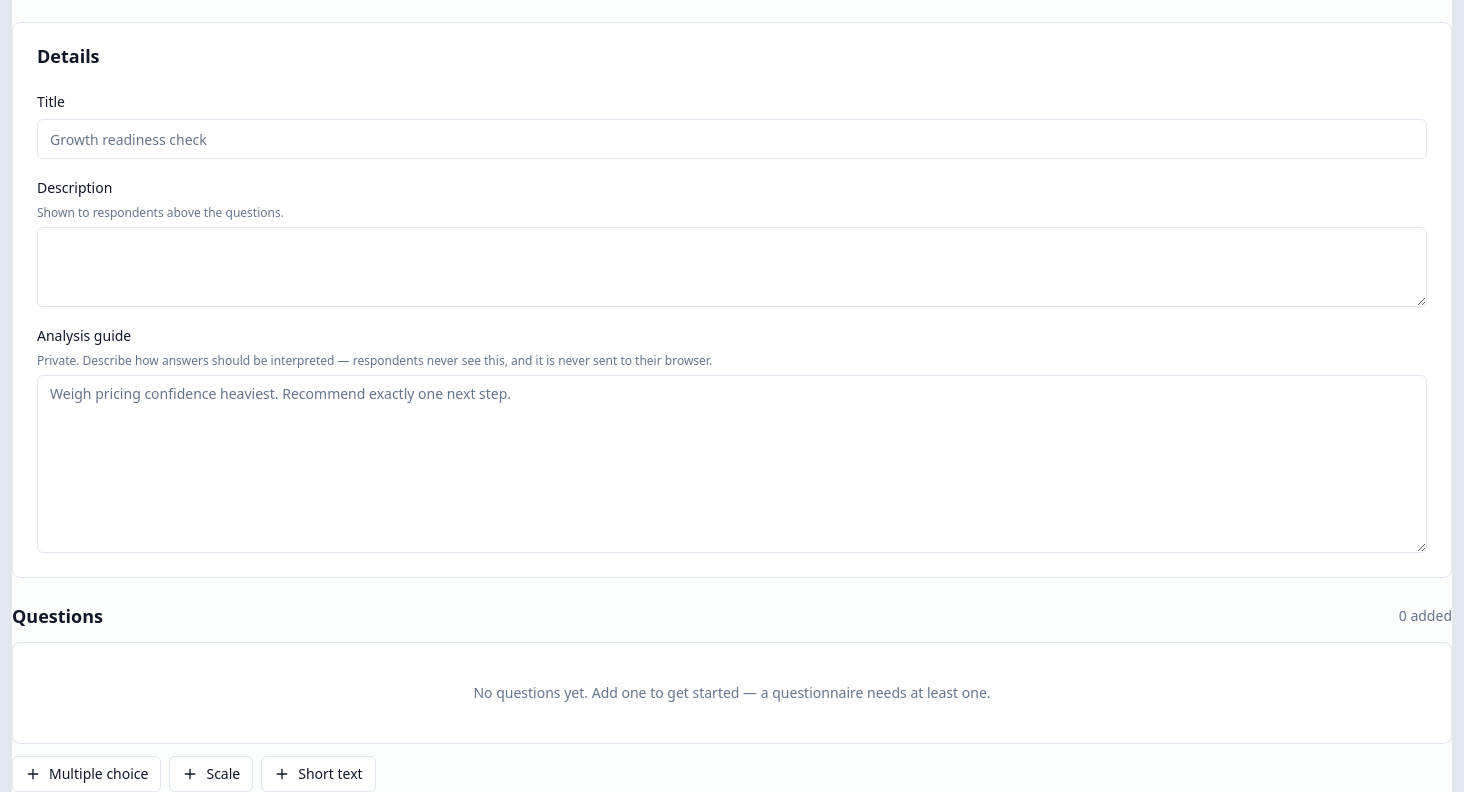
Test: BuilderPage multiple-choice options › will not let the last two options be removed
(page scrolled)
Click the button "Multiple choice". click: (87, 774)
box: [12,756,162,791]
(page scrolled)
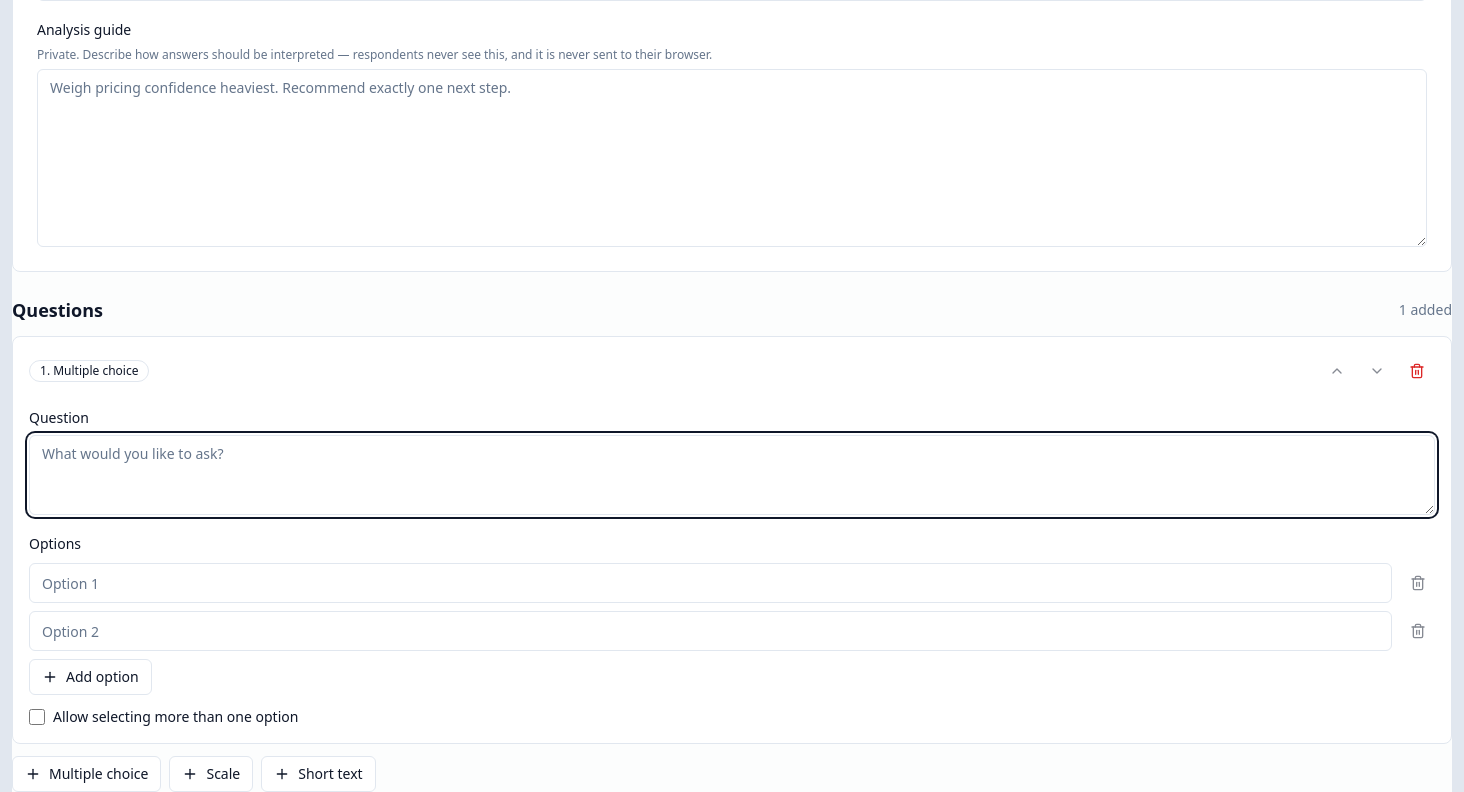
Expected: the button named "remove option 1" is disabled, [1400,565,1435,601]
Expected: the button named "remove option 2" is disabled, [1400,613,1435,649]
